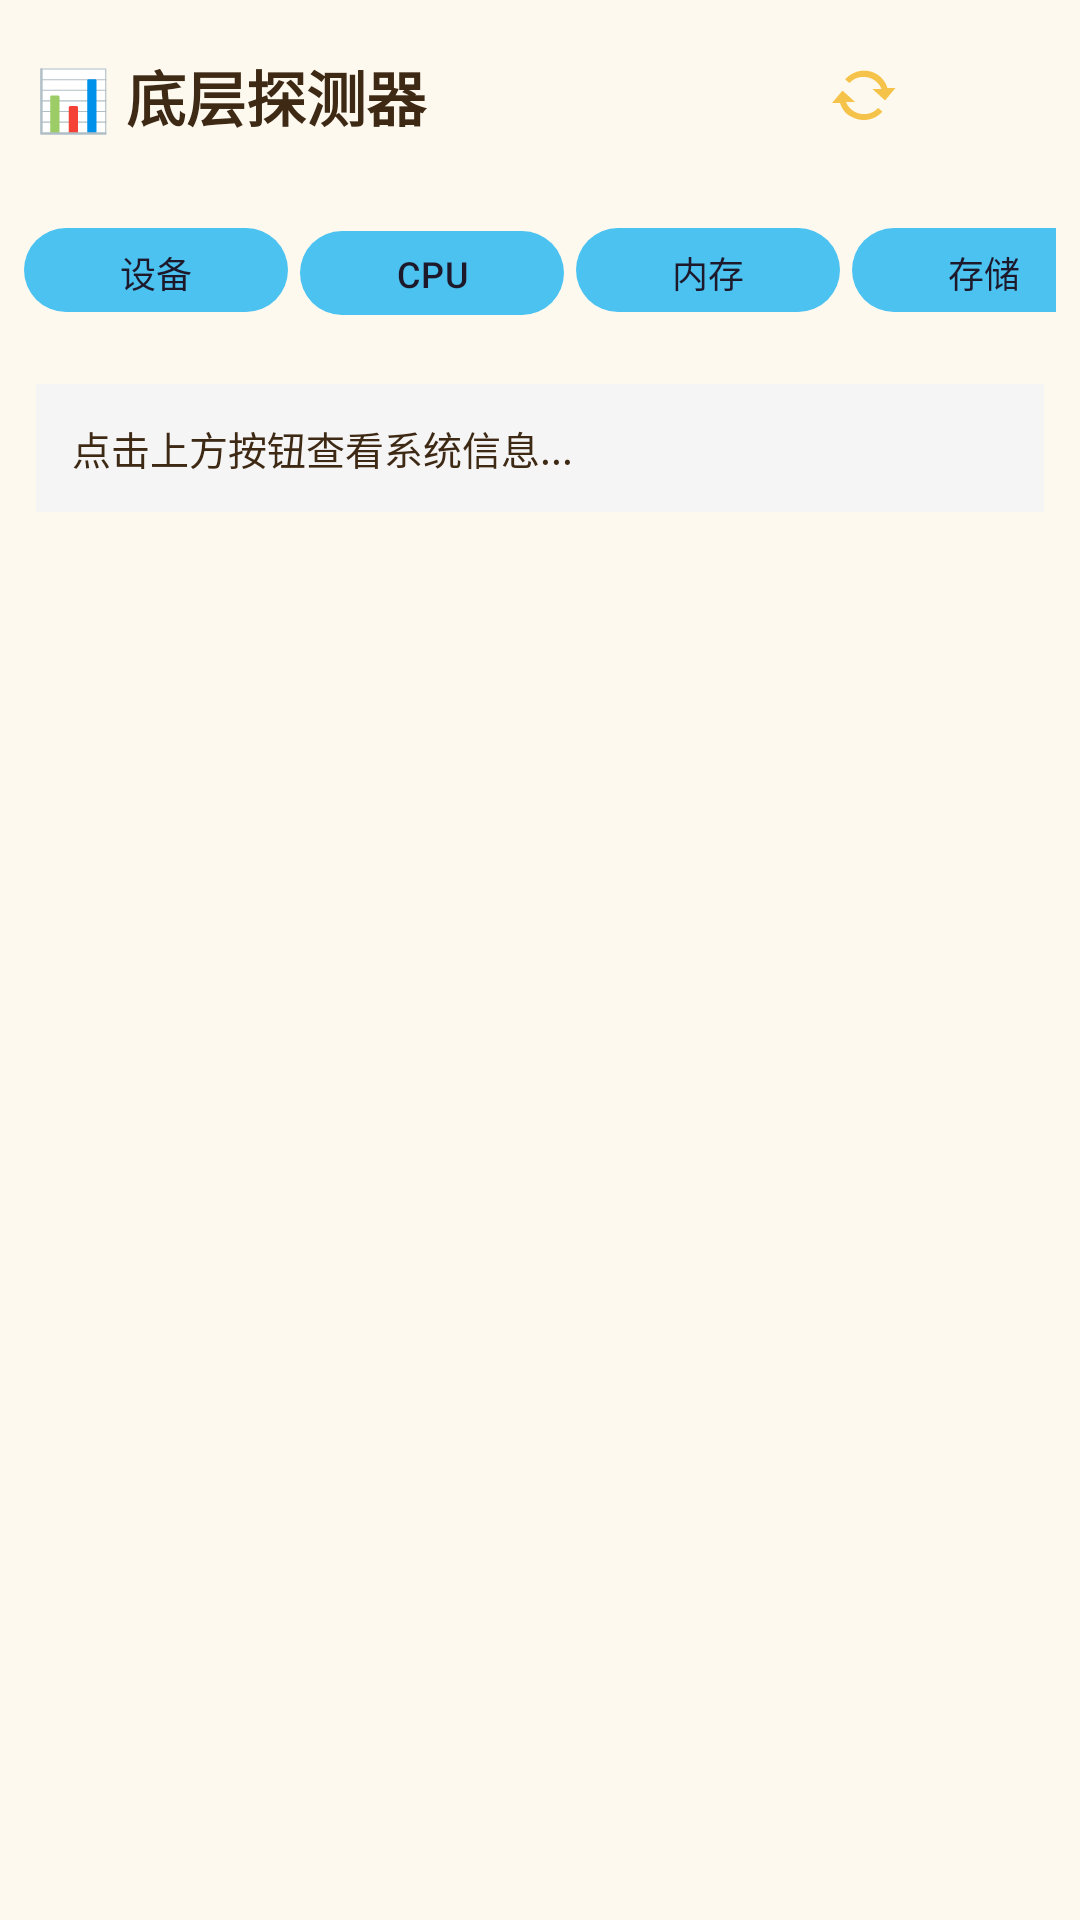

Screen size 1080×1920. Icon name, then its center in pixels as (x=x, y=y):
刷新: (x=864, y=95)
